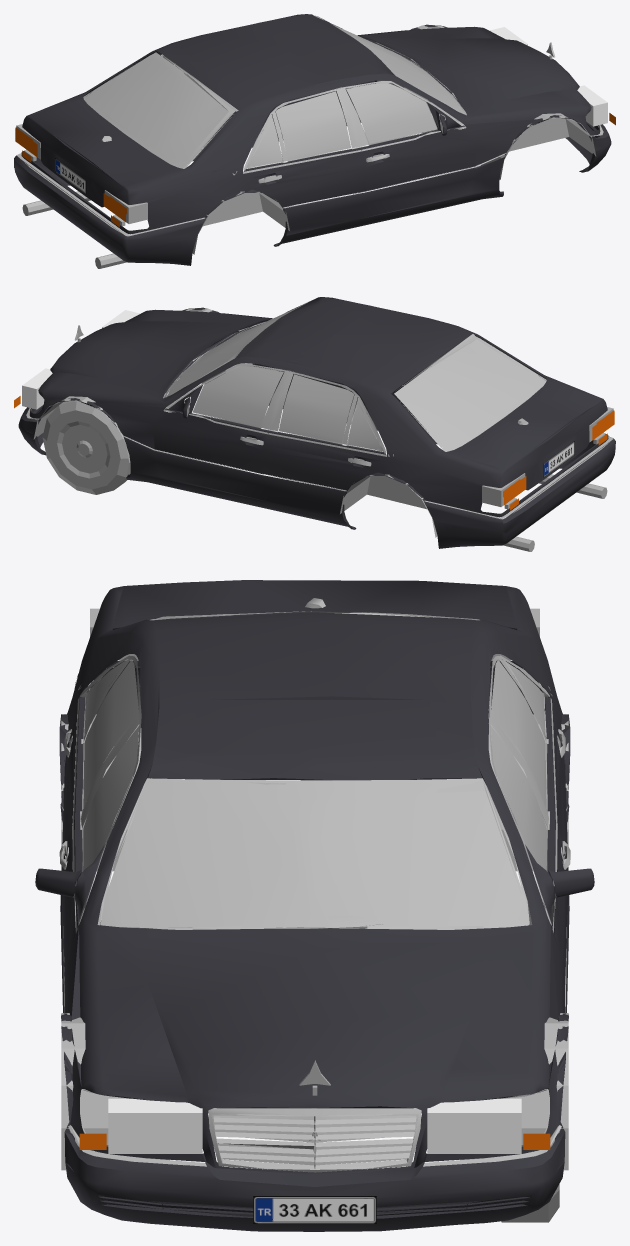
3 views of the same model, one above another, from view 1: azimuth 30°, elevation 25°; view 2: azimuth 150°, elevation 25°; view 3: azimuth 270°, elevation 25° (orthographic). The views are drawn at different scales.
Visible parts, largest first — view 1: bodyPainted, common, headlights, stopLights, licensePlateRear; view 2: bodyPainted, common, wheel, headlights, stopLights, licensePlateRear; view 3: bodyPainted, common, headlights, licensePlateFront.
Part boxes in pixels (box(x1,y1,x2,y2)): bodyPainted: box(14, 14, 611, 265); common: box(16, 15, 603, 268); headlights: box(490, 27, 607, 126); stopLights: box(15, 128, 125, 221); licensePlateRear: box(55, 158, 86, 194); bodyPainted: box(18, 297, 615, 548); common: box(26, 302, 613, 551); wheel: box(42, 401, 130, 494); headlights: box(22, 310, 139, 409); stopLights: box(504, 411, 614, 504); licensePlateRear: box(543, 441, 574, 477); bodyPainted: box(35, 580, 594, 1231); common: box(59, 598, 570, 1172); headlights: box(108, 1098, 521, 1153); licensePlateFront: box(253, 1196, 376, 1223).
Size of the model in its own units: 3.25 by 0.9999 by 1.54.
5 materials, 1 textured.
